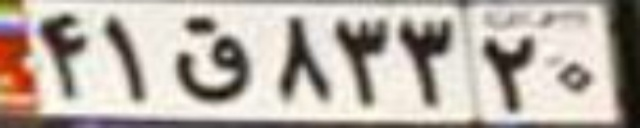0: (550, 61, 599, 93)
1: (101, 15, 146, 101)
2: (480, 33, 539, 113)
3: (397, 17, 454, 107), (335, 15, 386, 106)
4: (38, 11, 88, 98)
8: (274, 16, 332, 102)
ghaf: (171, 16, 251, 104)
